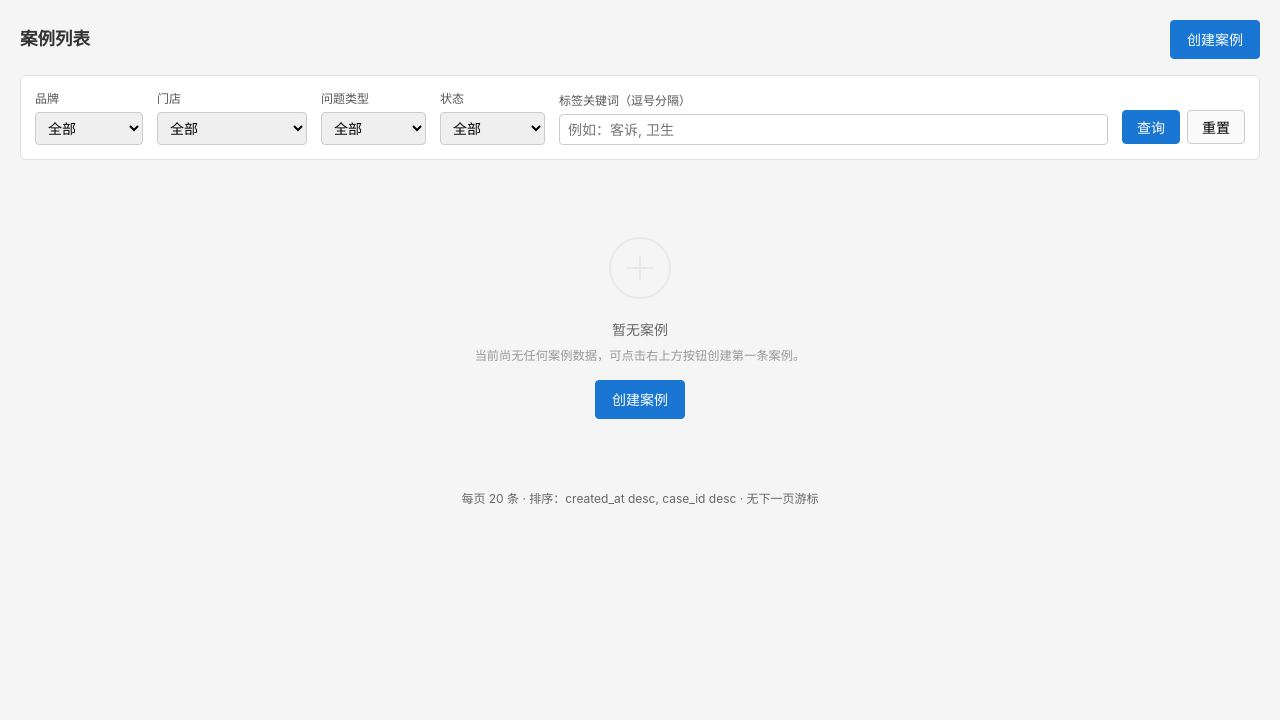
Scenario: CaseListPage › 已提交服务端筛选条件但仍为空时应展示「暂无匹配案例」
Select "瑞幸咖啡" in the dropdown labelled "品牌". click: x=89, y=128
box: [35,112,143,145]
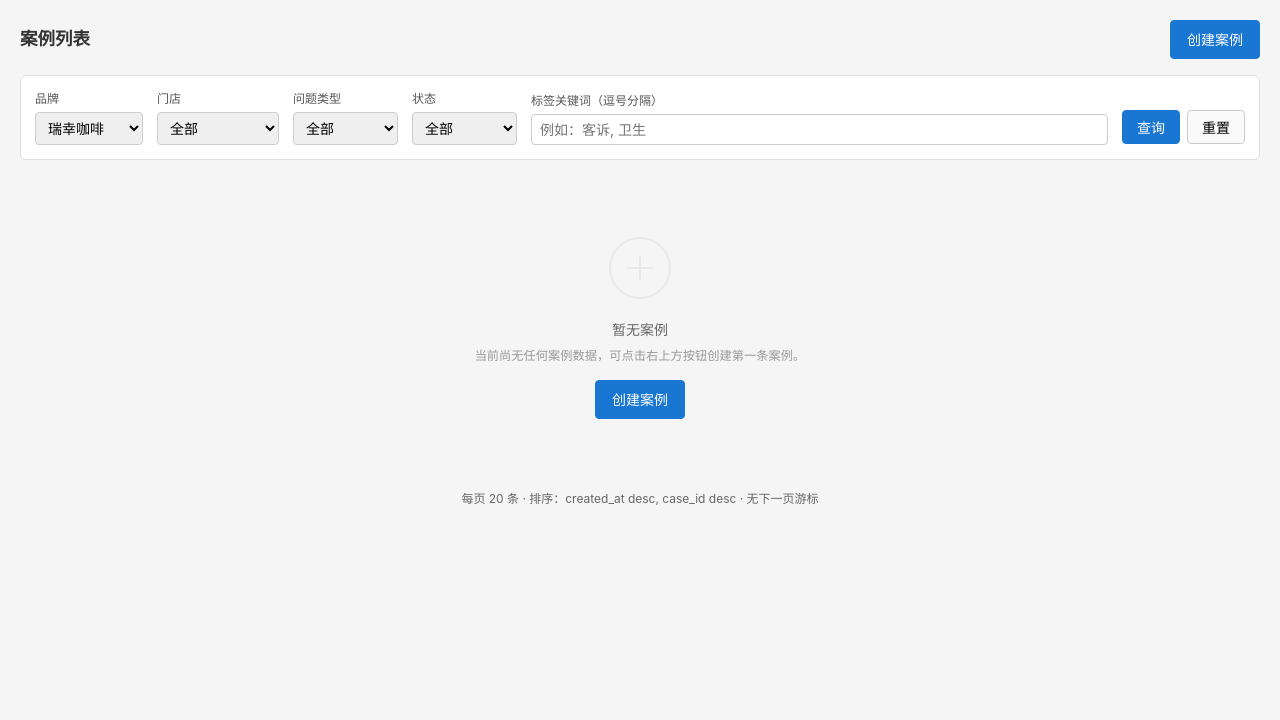
Click the button with test id "filter-submit". click: x=1151, y=127
box: [1122,110,1180,144]
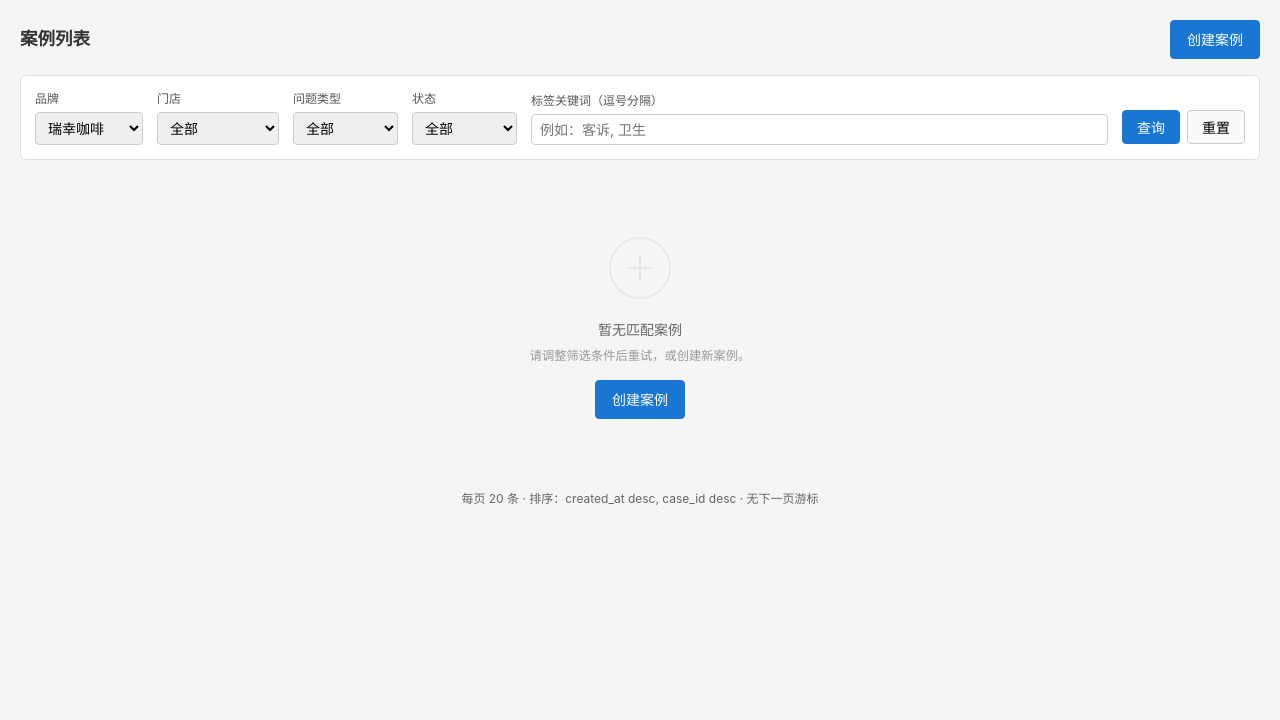
Now the text "暂无匹配案例" is shown, box [598,319,682,340]
